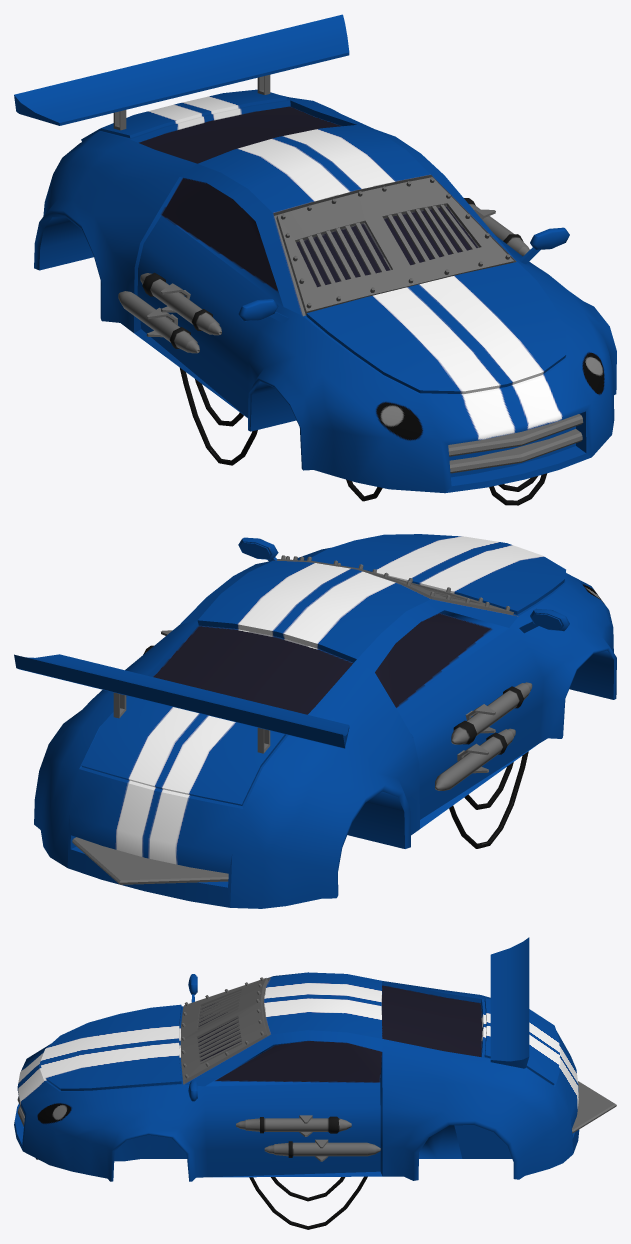
Rendered from SM_Car_02_Base.fbx.
The picture shows the model from 3 angles, top to bottom: view 1: azimuth 30°, elevation 25°; view 2: azimuth 150°, elevation 25°; view 3: azimuth 270°, elevation 25°; orthographic projection. The views are drawn at different scales.
Visible parts, largest first — view 1: SM_Car_02_Base; view 2: SM_Car_02_Base; view 3: SM_Car_02_Base.
Boxes of the visible parts, box(x1,y1,x2,y2) form: SM_Car_02_Base: box(14, 14, 616, 505); SM_Car_02_Base: box(14, 534, 616, 908); SM_Car_02_Base: box(14, 937, 616, 1229).
Size of the model in its own units: 222 by 456 by 154.
